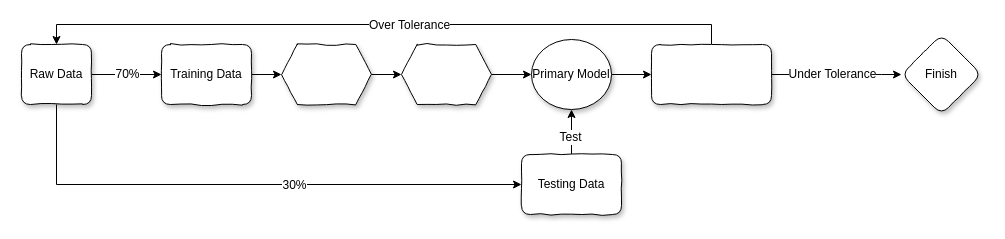
This 1005x239 diagram has some shape labels left out. Here are the shapes that lost their labels. From the top down, the centre of each, then its label:
At point (327, 76): "Cost Function".
At point (447, 76): "Minimize".
At point (712, 76): "Generalization Error".
